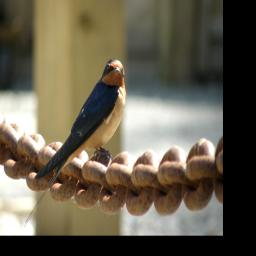Swallow: (21, 58, 127, 229)
